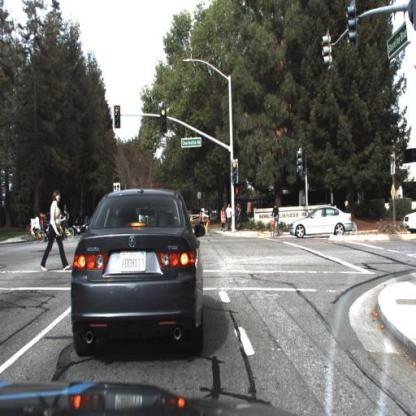biker: (21, 212, 48, 246), (341, 200, 360, 237), (198, 206, 212, 237), (270, 202, 281, 240)
car: (70, 186, 208, 360), (289, 204, 355, 243), (37, 209, 68, 241), (403, 200, 416, 235), (73, 214, 92, 237)
pedestrian: (39, 188, 73, 276), (227, 203, 234, 230), (221, 205, 228, 230), (39, 212, 46, 232)
trafficLight-Red: (231, 158, 240, 185), (159, 105, 167, 135)
trafficLight-RedLeft: (114, 103, 122, 130)
